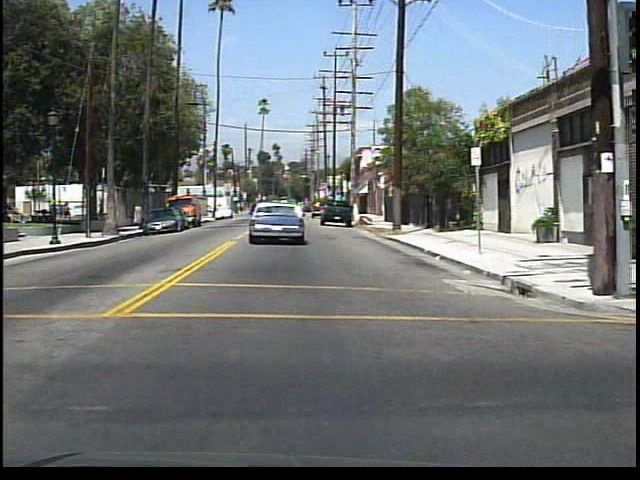person: (61, 198, 75, 224), (96, 196, 110, 221), (134, 201, 146, 229)
